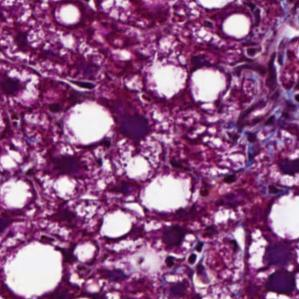inflammation: (236, 110, 282, 147), (160, 237, 208, 271)
